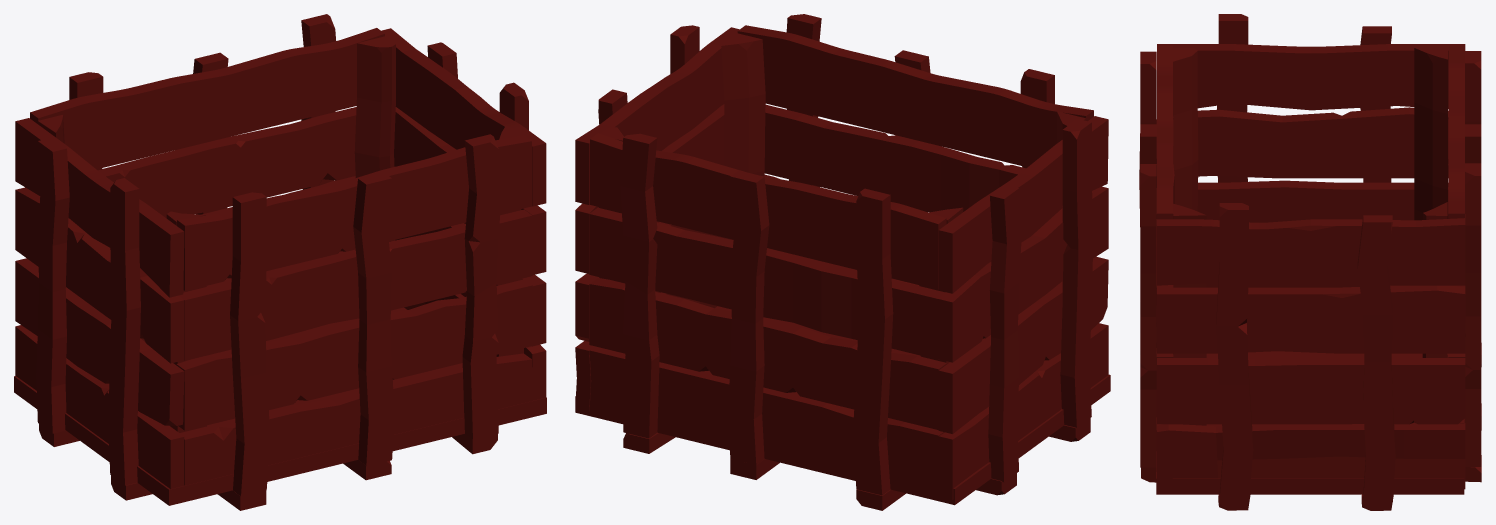
The model's file is wood.fbx.
3 views of the same model, side by side, from view 1: azimuth 30°, elevation 25°; view 2: azimuth 150°, elevation 25°; view 3: azimuth 270°, elevation 25° (orthographic).
Parts seen in each view (by area): view 1: Cube.026; view 2: Cube.026; view 3: Cube.026.
Part boxes in pixels (<box>): Cube.026: <box>14,14,546,510</box>; Cube.026: <box>575,14,1110,510</box>; Cube.026: <box>1139,14,1481,510</box>.
Bounding box in the file's own units: 420 × 306 × 310.
